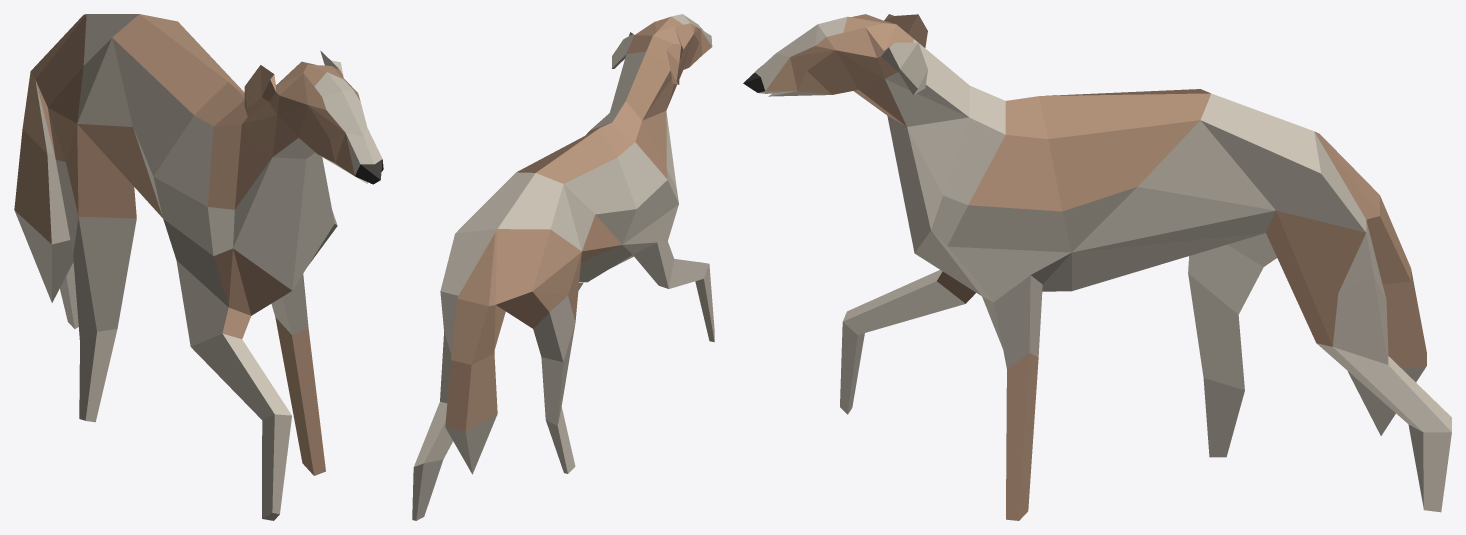
The model's file is low_poly_borzoi.fbx.
The picture shows the model from 3 angles, left to right: view 1: azimuth 30°, elevation 25°; view 2: azimuth 150°, elevation 25°; view 3: azimuth 270°, elevation 25°; orthographic projection. The views are drawn at different scales.
Parts seen in each view (by area): view 1: pCube2; view 2: pCube2; view 3: pCube2.
Part boxes in pixels (x1,y1,x2,y2): pCube2: [14, 14, 383, 520]; pCube2: [412, 14, 714, 520]; pCube2: [743, 14, 1451, 520].
Size of the model in its own units: 2.21 by 6.96 by 9.49.
